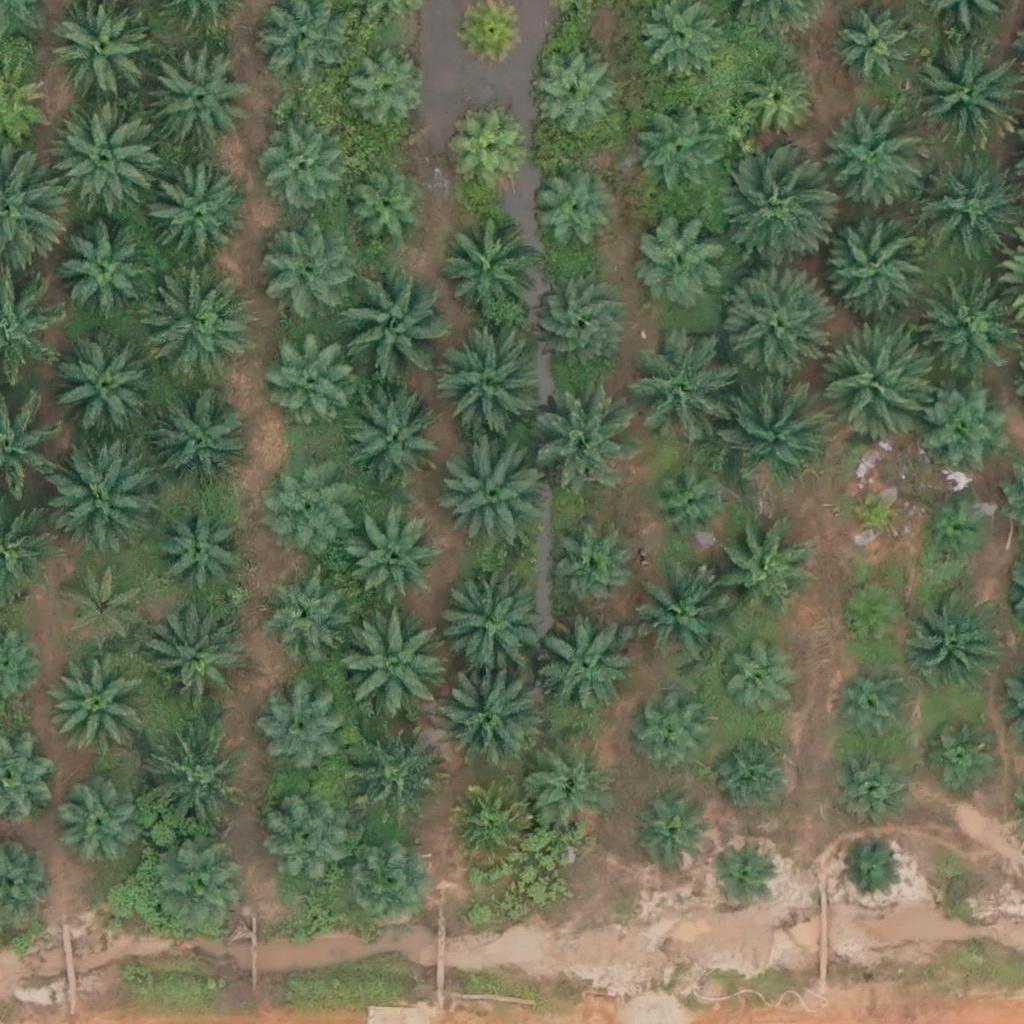Kelapa_Sawit: (430, 434, 543, 548), (908, 39, 1021, 152), (819, 206, 932, 319), (716, 267, 829, 380), (435, 661, 548, 774), (427, 565, 540, 678), (139, 164, 252, 277), (140, 273, 253, 386), (50, 330, 163, 443), (716, 369, 828, 483), (433, 330, 545, 444), (335, 607, 447, 721), (812, 107, 924, 220), (817, 324, 929, 437), (714, 158, 826, 271), (527, 375, 639, 488), (331, 269, 443, 382), (135, 730, 247, 843), (51, 108, 163, 221), (48, 446, 160, 559), (916, 272, 1016, 373), (918, 373, 1018, 474), (710, 521, 810, 622), (624, 570, 724, 671), (624, 342, 724, 443), (534, 618, 634, 719), (437, 218, 537, 319), (340, 386, 440, 487), (342, 723, 442, 824), (261, 223, 361, 324), (150, 43, 250, 144), (144, 616, 244, 717), (57, 223, 157, 324), (48, 656, 148, 757), (909, 587, 1009, 688), (631, 208, 731, 308), (529, 276, 629, 376), (153, 843, 253, 943), (151, 391, 250, 492), (823, 743, 911, 831), (442, 781, 530, 869), (731, 57, 819, 145), (645, 459, 733, 547), (526, 50, 614, 138), (352, 519, 440, 607), (254, 687, 342, 775), (252, 122, 340, 210), (831, 2, 919, 90), (631, 107, 718, 196), (265, 794, 352, 883), (63, 562, 150, 651), (833, 662, 920, 750), (528, 166, 615, 254), (550, 528, 637, 616), (527, 748, 614, 836), (344, 46, 431, 134), (341, 170, 428, 258), (343, 840, 430, 928), (255, 565, 342, 653), (264, 453, 351, 541), (267, 338, 354, 426), (158, 504, 245, 592), (60, 784, 147, 872), (716, 645, 791, 721), (718, 733, 793, 809), (917, 493, 992, 569), (836, 580, 911, 656), (450, 116, 525, 192), (924, 715, 999, 790), (636, 700, 711, 775), (634, 800, 709, 875), (707, 841, 770, 904), (840, 837, 902, 900), (843, 481, 905, 544)
